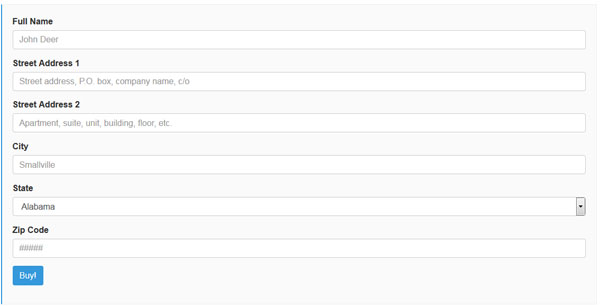button: (11, 262, 49, 289)
dropdown: (12, 194, 590, 225)
textbox: (11, 236, 592, 259)
